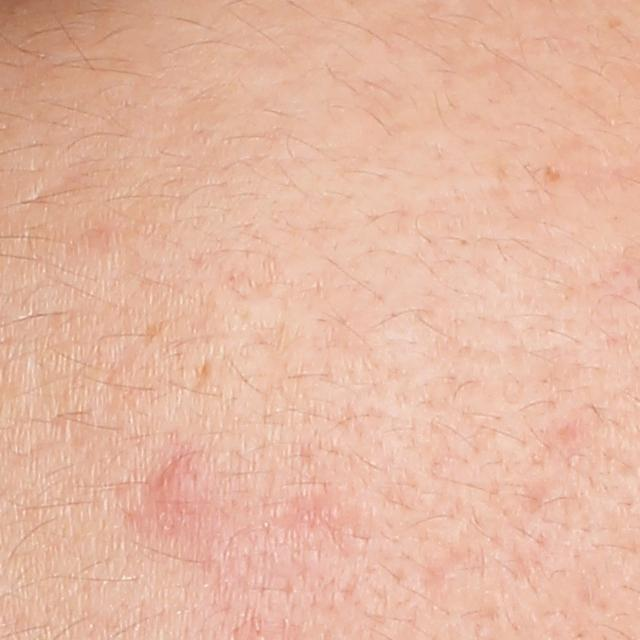papule: (144, 454, 198, 515)
